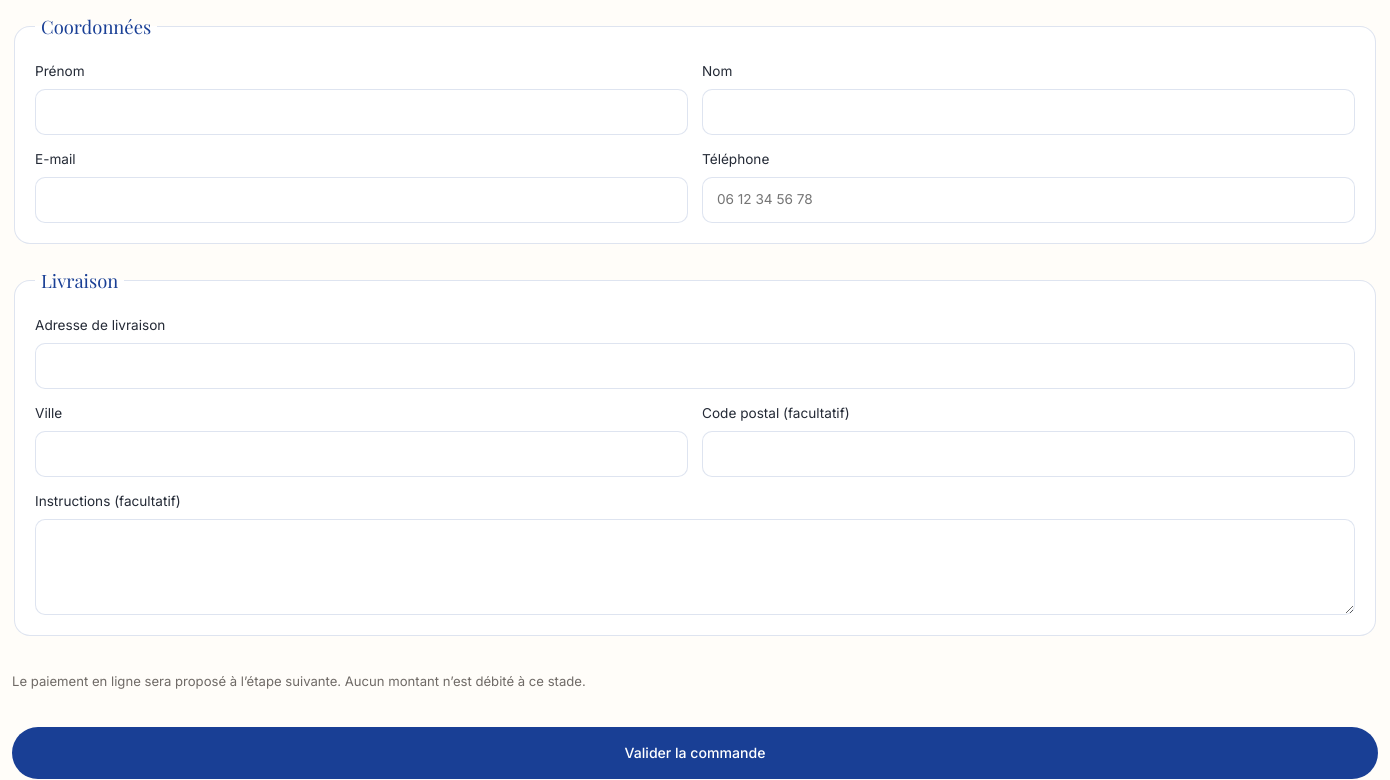
Scenario: checkout form › shows server field errors next to the fields
Click the button "Valider la commande" at (695, 753), box [12,727,1378,779]
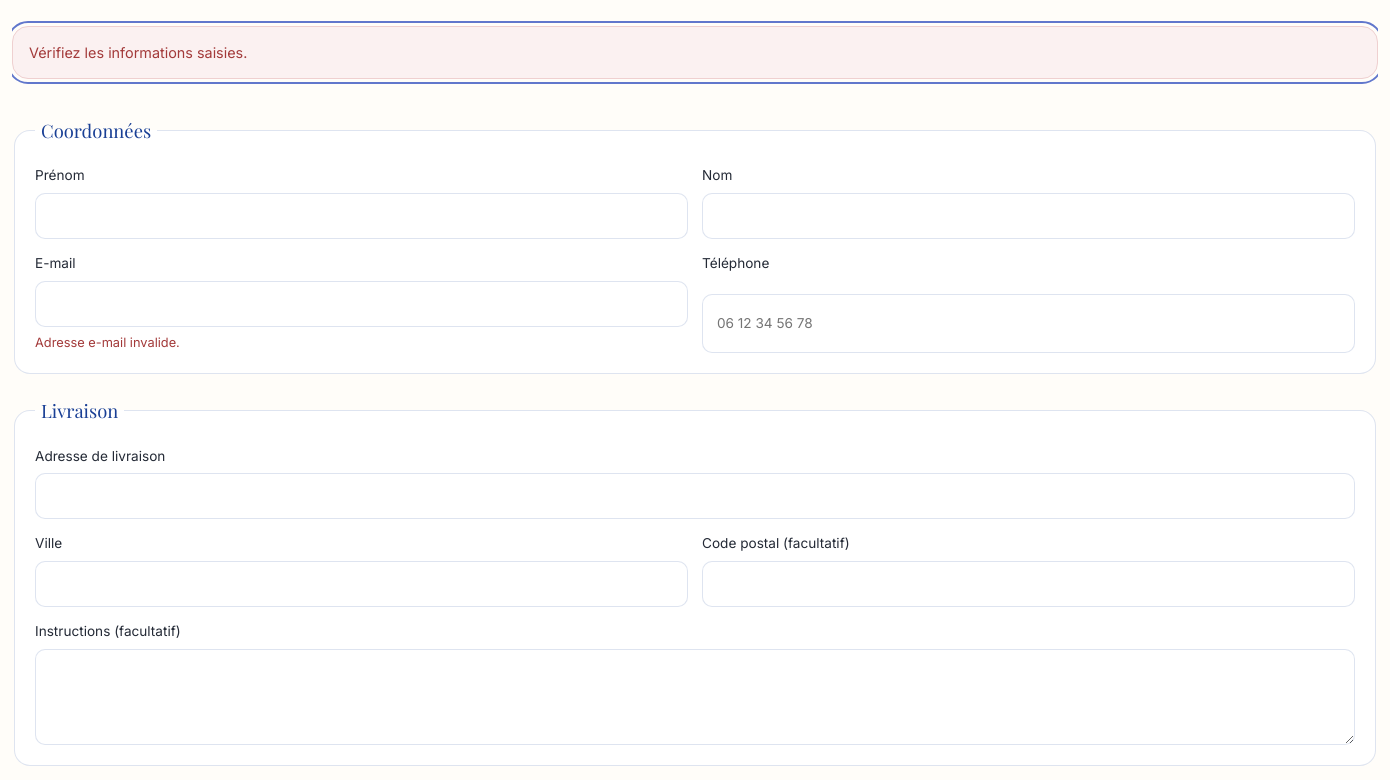
Expected: the message shows "Vérifiez", [29,44,247,61]
Expected: the text "Adresse e-mail invalide." is shown, [35,335,180,350]
